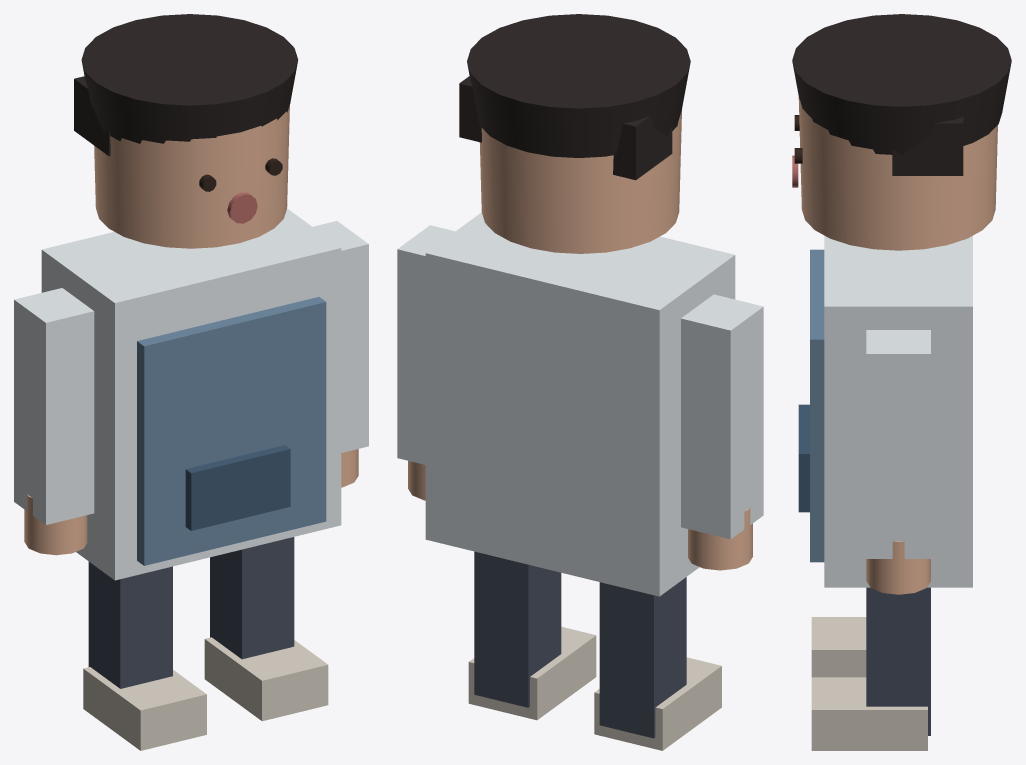
File: customer-02.glb
3 renders of one model, left to right at view 1: azimuth 30°, elevation 25°; view 2: azimuth 150°, elevation 25°; view 3: azimuth 270°, elevation 25°, orthographic. The views are drawn at different scales.
Visible parts, largest first — view 1: Shirt, Apron, Sleeve (×2), HairCap, Head, Leg (×2), Shoe (×2), ApronPocket, Hand (×2), HairFringe, Smile; view 2: Shirt, Sleeve (×2), HairCap, Leg (×2), Head, Shoe (×2), HairFringe, Hand (×2); view 3: Shirt, HairCap, Head, Sleeve, Shoe (×2), Leg, Apron, HairFringe, Hand, ApronPocket.
Boxes of the visible parts, x1,y1,x2,y2 form: Shirt: [41, 208, 341, 580]; Apron: [137, 297, 326, 565]; Sleeve (×2): [14, 221, 368, 524]; HairCap: [81, 14, 298, 143]; Head: [94, 105, 289, 248]; Leg (×2): [88, 537, 294, 688]; Shoe (×2): [83, 637, 328, 750]; ApronPocket: [185, 445, 290, 530]; Hand (×2): [24, 449, 358, 555]; HairFringe: [74, 76, 110, 156]; Smile: [227, 192, 257, 223]; Shirt: [425, 212, 735, 596]; Sleeve (×2): [397, 225, 763, 539]; HairCap: [467, 14, 690, 157]; Leg (×2): [474, 551, 686, 738]; Head: [479, 110, 681, 253]; Shoe (×2): [468, 626, 721, 750]; HairFringe: [459, 76, 672, 180]; Hand (×2): [408, 461, 752, 570]; Shirt: [824, 235, 972, 587]; HairCap: [792, 14, 1011, 154]; Head: [798, 96, 997, 250]; Sleeve: [866, 330, 930, 558]; Shoe (×2): [811, 617, 927, 750]; Leg: [866, 587, 930, 735]; Apron: [810, 249, 824, 562]; HairFringe: [892, 117, 963, 175]; Hand: [866, 541, 930, 594]; ApronPocket: [798, 404, 809, 512].
Bounding box in the file's own units: 1.18 × 2.2 × 0.68.
